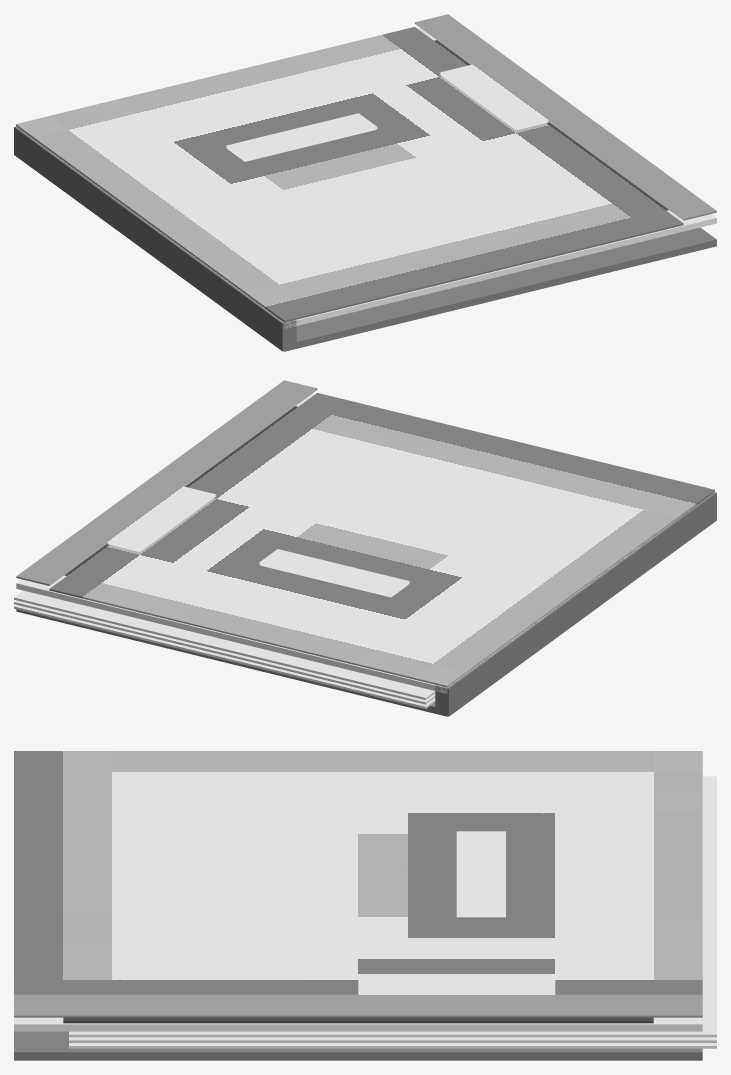
The model's file is CMU3DBoxFolderBasePrintedSmallCloudPaperStudy.glb.
3 renders of one model, top to bottom at view 1: azimuth 30°, elevation 25°; view 2: azimuth 150°, elevation 25°; view 3: azimuth 270°, elevation 25°, orthographic. The views are drawn at different scales.
Visible parts, largest first — view 1: original white folder color layer, original optional document overlay, thin folder back leaf, folded folder spine, raised top folder leaf, original folder border and label; view 2: original white folder color layer, original optional document overlay, folded folder spine, example inserted paper 2, raised top folder leaf, original folder border and label, example inserted paper 1, example inserted paper 0, thin folder back leaf; view 3: original white folder color layer, original optional document overlay, thin folder back leaf, example inserted paper 2, raised top folder leaf, original folder border and label, example inserted paper 0, example inserted paper 1.
Part boxes in pixels (x1,y1,x2,y2): original white folder color layer: (16, 27, 683, 322); original optional document overlay: (415, 14, 716, 220); thin folder back leaf: (284, 227, 716, 351); folded folder spine: (14, 126, 296, 351); raised top folder leaf: (37, 28, 716, 328); original folder border and label: (226, 113, 377, 161); original white folder color layer: (49, 393, 714, 687); original optional document overlay: (16, 380, 317, 585); folded folder spine: (435, 492, 716, 716); example inserted paper 2: (14, 590, 435, 700); raised top folder leaf: (16, 394, 689, 693); original folder border and label: (259, 549, 409, 596); example inserted paper 1: (14, 600, 435, 704); example inserted paper 0: (14, 605, 435, 708); thin folder back leaf: (16, 609, 447, 716); original white folder color layer: (14, 751, 702, 1023); original optional document overlay: (14, 974, 702, 1017); thin folder back leaf: (14, 1031, 702, 1060); example inserted paper 2: (69, 776, 716, 1037); raised top folder leaf: (14, 916, 702, 1031); original folder border and label: (456, 831, 505, 916); example inserted paper 0: (69, 1043, 716, 1048); example inserted paper 1: (69, 1037, 716, 1042).
Size of the model in its own units: 0.408 by 0.0318 by 0.4465.
6 materials, 3 textured.
